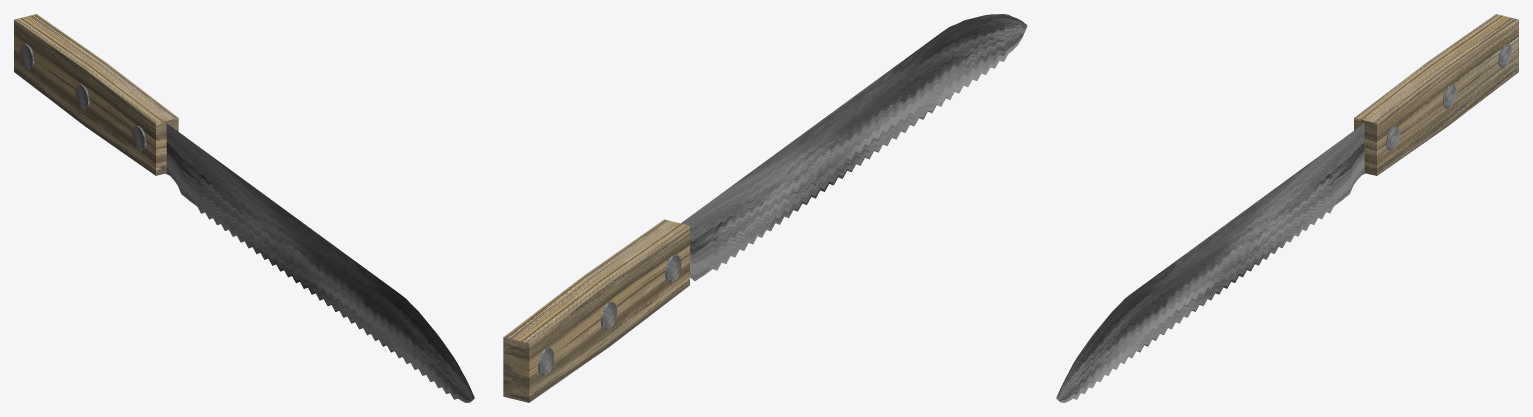
File: knife.glb
3 views of the same model, side by side, from view 1: azimuth 30°, elevation 25°; view 2: azimuth 150°, elevation 25°; view 3: azimuth 330°, elevation 25° (orthographic). The views are drawn at different scales.
Parts seen in each view (by area): view 1: knife.001; view 2: knife.001; view 3: knife.001.
Part boxes in pixels (bbox=[...]): knife.001: bbox=[14, 14, 474, 402]; knife.001: bbox=[503, 14, 1027, 402]; knife.001: bbox=[1056, 14, 1518, 402].
Bounding box in the file's own units: 1.25 × 3.38 × 38.74.
2 materials, 2 textured.
